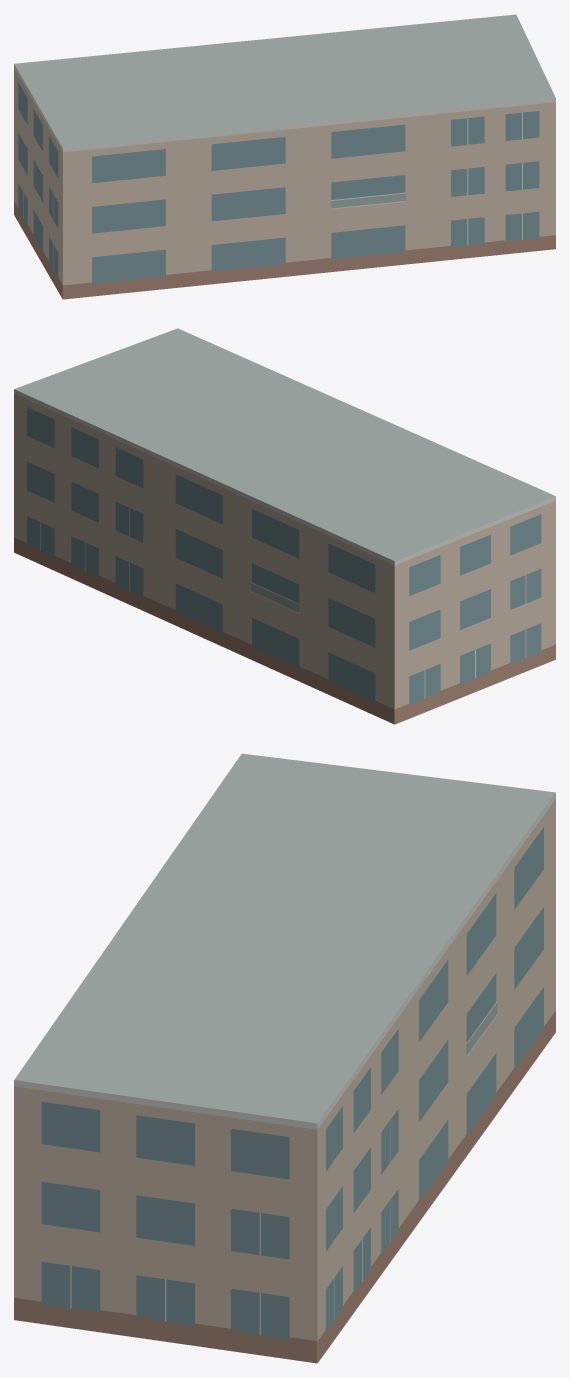
Rendered from survey-upis-32619978.glb.
The picture shows the model from 3 angles, top to bottom: view 1: azimuth 30°, elevation 25°; view 2: azimuth 150°, elevation 25°; view 3: azimuth 270°, elevation 25°; orthographic projection. The views are drawn at different scales.
Visible parts, largest first — view 1: survey-upis-32619978.tmp; view 2: survey-upis-32619978.tmp; view 3: survey-upis-32619978.tmp.
Part boxes in pixels (box(x1,y1,x2,y2)): survey-upis-32619978.tmp: box(14, 14, 555, 299); survey-upis-32619978.tmp: box(14, 328, 555, 724); survey-upis-32619978.tmp: box(14, 753, 555, 1363).
Bounding box in the file's own units: 30.25 × 9.15 × 18.73.
